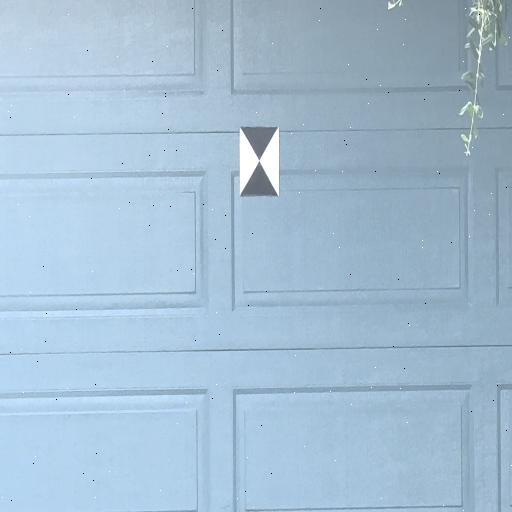target: (240, 126, 279, 196)
